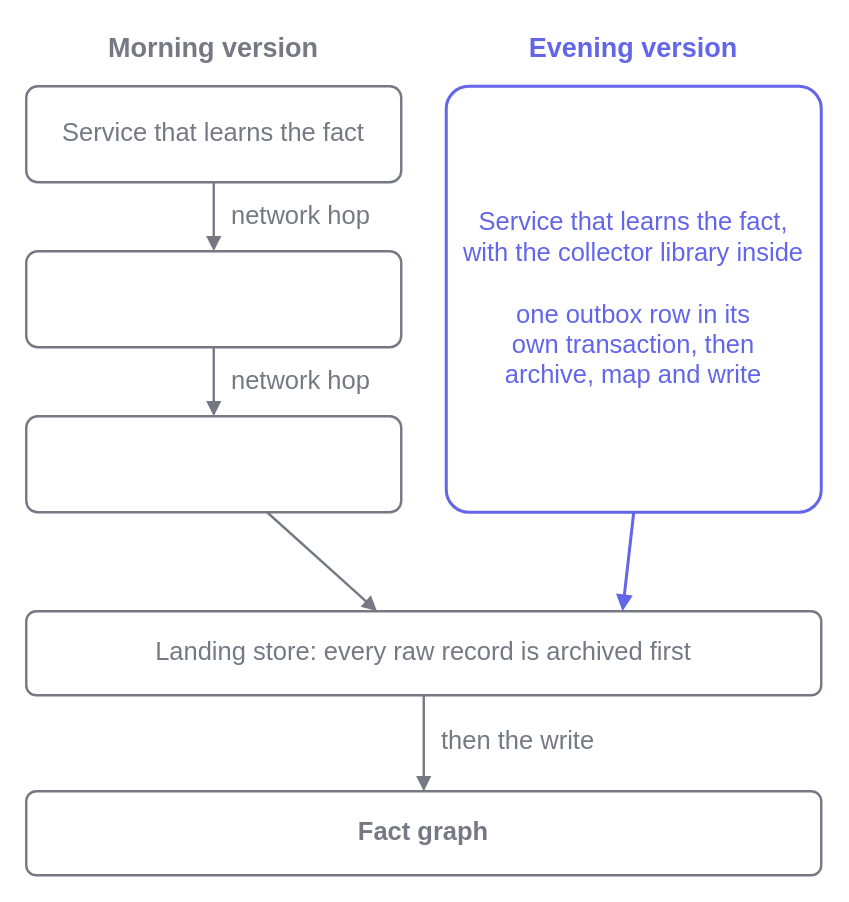
Some shapes in this 849 by 902 pixel diagram are drawn without their labels. The centre of each missing label's shape, as x and y in pixels:
"Central intake: maps and writes" goes at pixel 213 463.
"Collector service for its channel" goes at pixel 213 298.
